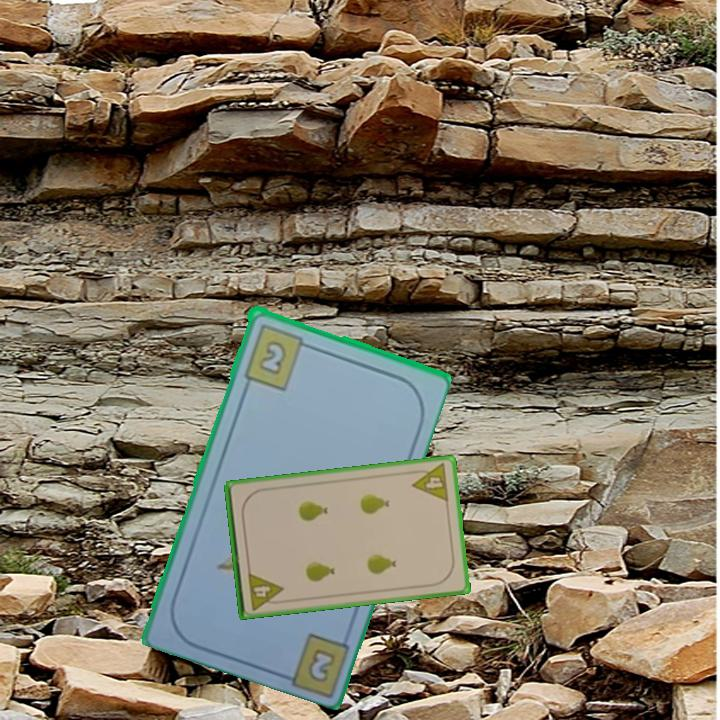2b: (240, 320, 314, 392), (304, 644, 338, 685)
4p: (244, 568, 287, 613), (408, 460, 451, 504)
